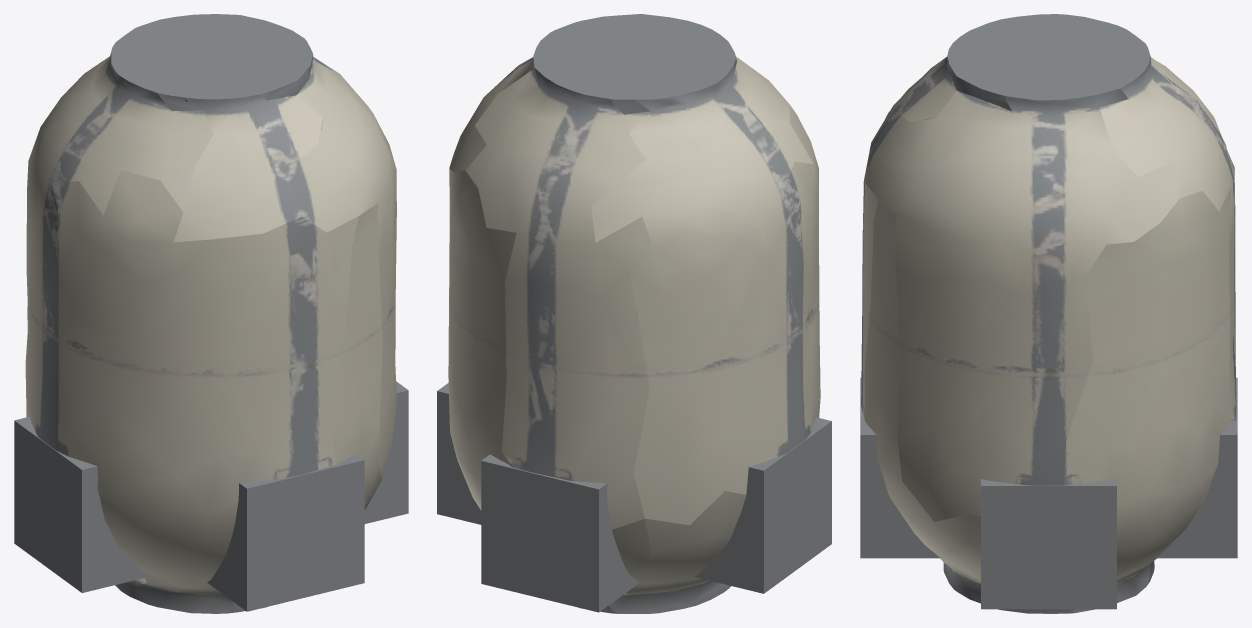
Rendered from propellant_tank_mk1.glb.
The picture shows the model from 3 angles, left to right: view 1: azimuth 30°, elevation 25°; view 2: azimuth 150°, elevation 25°; view 3: azimuth 270°, elevation 25°; orthographic projection.
Parts seen in each view (by area): view 1: part; view 2: part; view 3: part.
Boxes of the visible parts, left/top/right/bottom form: part: left=14, top=14, right=408, bottom=613; part: left=437, top=14, right=831, bottom=613; part: left=860, top=14, right=1237, bottom=613.
Size of the model in its own units: 2 by 3 by 2.
Materials: 2 (1 with a texture image).
